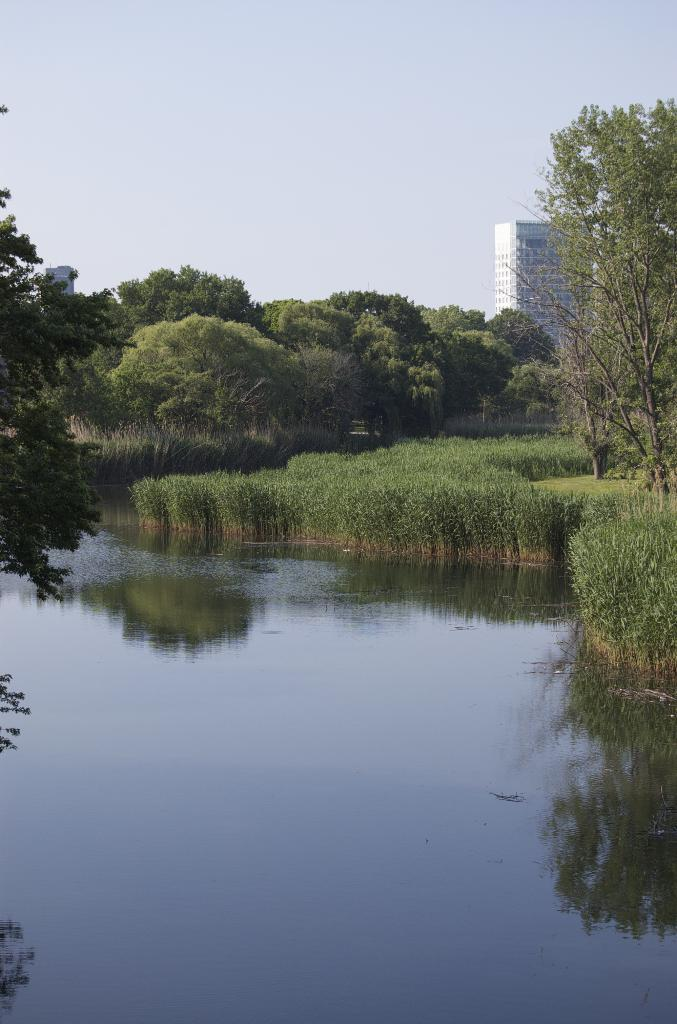Tree: (0, 92, 144, 753), (504, 79, 672, 478), (69, 263, 270, 443), (112, 311, 296, 447), (240, 296, 361, 417), (277, 342, 371, 456), (333, 304, 406, 445), (326, 284, 434, 364), (422, 328, 478, 419), (492, 311, 559, 375), (482, 361, 555, 419), (399, 357, 447, 440), (413, 296, 492, 344)
